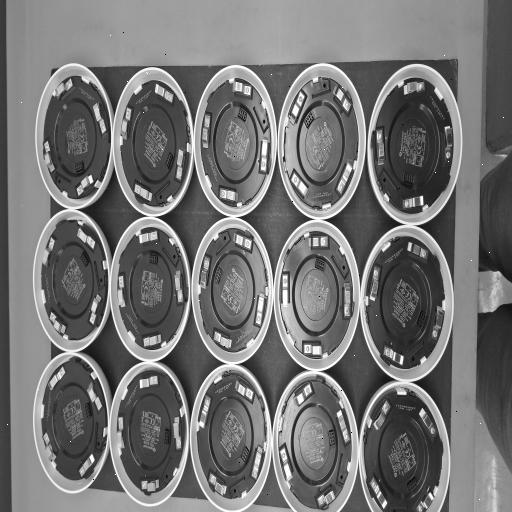yayli: (288, 88, 308, 126), (290, 168, 310, 201), (418, 406, 438, 438), (333, 83, 352, 116), (336, 160, 353, 196), (370, 477, 388, 510), (292, 381, 314, 407), (279, 443, 294, 481), (373, 400, 391, 431), (415, 485, 435, 512), (430, 304, 444, 341), (86, 380, 102, 412), (253, 292, 267, 328), (234, 379, 254, 404), (337, 410, 351, 445), (250, 445, 264, 480), (316, 484, 336, 508), (93, 102, 107, 136), (77, 227, 96, 251), (208, 472, 227, 496), (42, 432, 57, 462), (48, 364, 65, 390), (78, 452, 95, 478), (198, 394, 211, 428), (383, 345, 404, 366), (49, 312, 67, 336), (258, 138, 270, 174), (370, 266, 382, 302), (233, 232, 253, 253), (120, 108, 132, 143), (213, 329, 233, 350), (199, 256, 211, 290), (174, 148, 186, 182), (42, 237, 55, 268), (54, 78, 72, 100), (76, 174, 94, 196), (406, 242, 428, 260), (89, 294, 101, 326), (43, 142, 55, 174), (156, 83, 174, 104), (219, 186, 238, 205), (134, 184, 152, 204), (402, 195, 424, 211), (444, 126, 453, 164), (233, 80, 252, 98), (376, 128, 385, 166), (172, 416, 182, 450), (404, 80, 425, 96), (302, 341, 323, 357), (281, 272, 290, 309), (202, 113, 211, 149), (139, 229, 159, 245), (308, 234, 329, 249), (175, 270, 184, 304), (344, 284, 352, 320), (139, 375, 158, 390), (140, 478, 159, 492), (118, 275, 126, 307), (117, 417, 125, 449), (143, 334, 161, 348)
